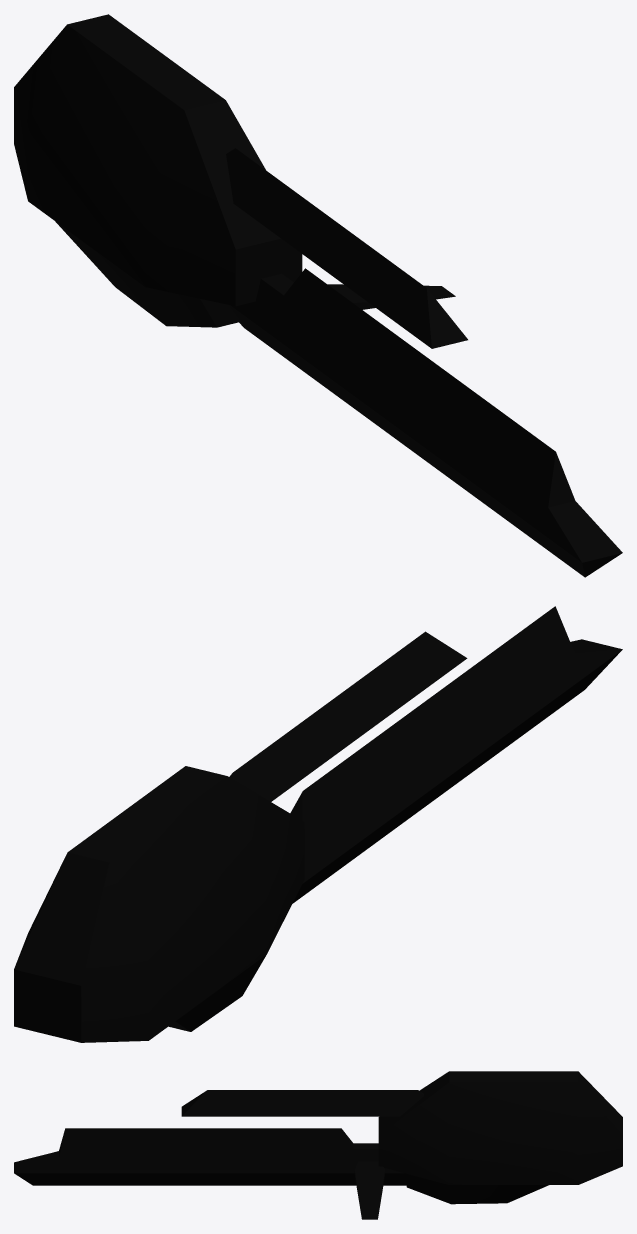
Rendered from sensor_s_03.glb.
3 views of the same model, one above another, from view 1: azimuth 30°, elevation 25°; view 2: azimuth 150°, elevation 25°; view 3: azimuth 270°, elevation 25° (orthographic). The views are drawn at different scales.
Visible parts, largest first — view 1: sensor_s_03_LOD0; view 2: sensor_s_03_LOD0; view 3: sensor_s_03_LOD0.
Part boxes in pixels (x1=…): sensor_s_03_LOD0: x1=14, y1=14, x2=622, y2=577; sensor_s_03_LOD0: x1=14, y1=606, x2=622, y2=1042; sensor_s_03_LOD0: x1=14, y1=1071, x2=622, y2=1219.
Bounding box in the file's own units: 0.4491 × 0.3945 × 1.86.
1 material, 1 textured.
